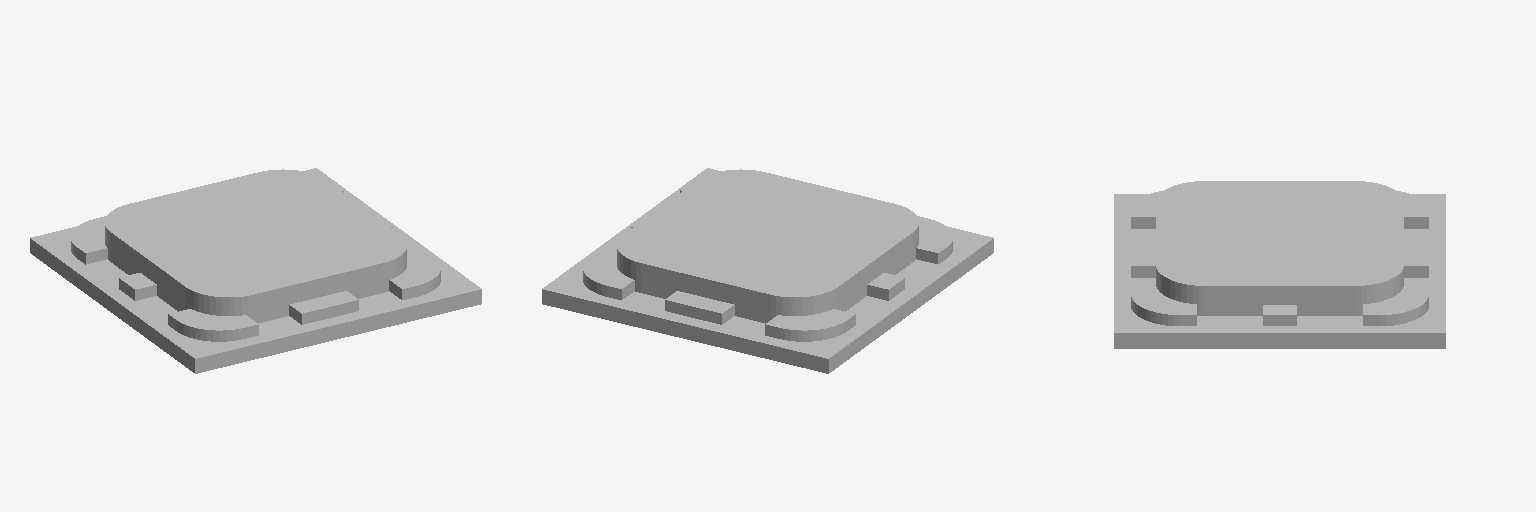
The model's file is AMD Current Gen.obj.
3 renders of one model, left to right at view 1: azimuth 30°, elevation 25°; view 2: azimuth 150°, elevation 25°; view 3: azimuth 270°, elevation 25°, orthographic.
Parts seen in each view (by area): view 1: obj_0; view 2: obj_0; view 3: obj_0.
Part boxes in pixels (left/top/right/bottom): obj_0: left=30, top=168, right=481, bottom=373; obj_0: left=542, top=168, right=993, bottom=373; obj_0: left=1114, top=181, right=1445, bottom=348.
Bounding box in the file's own units: 0.4 × 0.06 × 0.4.